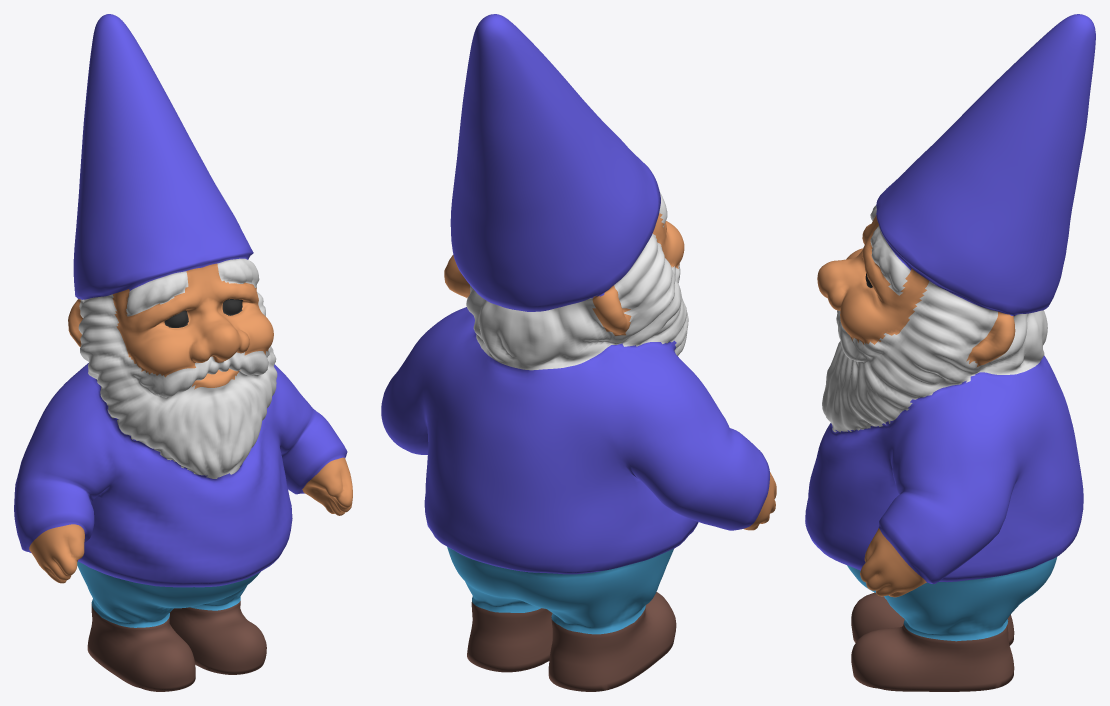
The model's file is BlueGnome.fbx.
3 renders of one model, left to right at view 1: azimuth 30°, elevation 25°; view 2: azimuth 150°, elevation 25°; view 3: azimuth 270°, elevation 25°, orthographic. The views are drawn at different scales.
Parts seen in each view (by area): view 1: 13184_PudgyGnome_v1_NEW; view 2: 13184_PudgyGnome_v1_NEW; view 3: 13184_PudgyGnome_v1_NEW.
Boxes of the visible parts, box(x1,y1,x2,y2) form: 13184_PudgyGnome_v1_NEW: box(14, 14, 352, 691); 13184_PudgyGnome_v1_NEW: box(381, 14, 776, 691); 13184_PudgyGnome_v1_NEW: box(805, 14, 1095, 691).
Bounding box in the file's own units: 1796 × 3175 × 1304.
